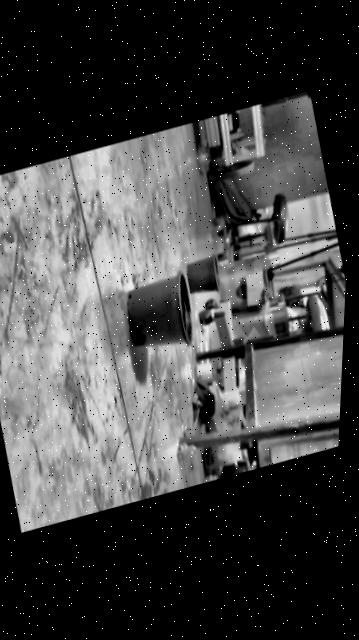pot: (118, 270, 201, 360), (182, 254, 224, 300)
